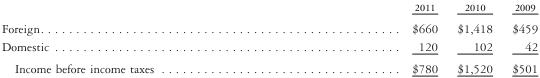table: (0, 0, 537, 74)
table column: (0, 0, 282, 74), (282, 0, 446, 74), (446, 0, 501, 74), (501, 0, 537, 74)
table column header: (0, 0, 537, 16)
table row: (0, 16, 537, 36), (0, 36, 537, 56), (0, 56, 537, 74), (0, 0, 537, 16)
